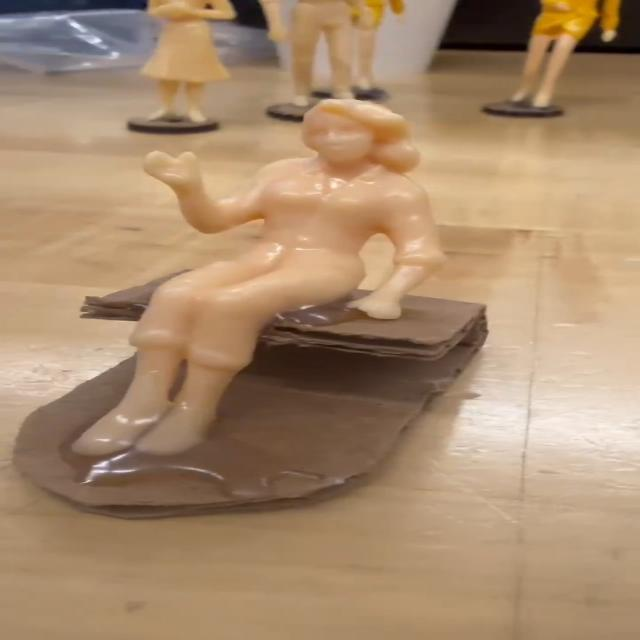Unauthorized: (77, 82, 444, 466)
